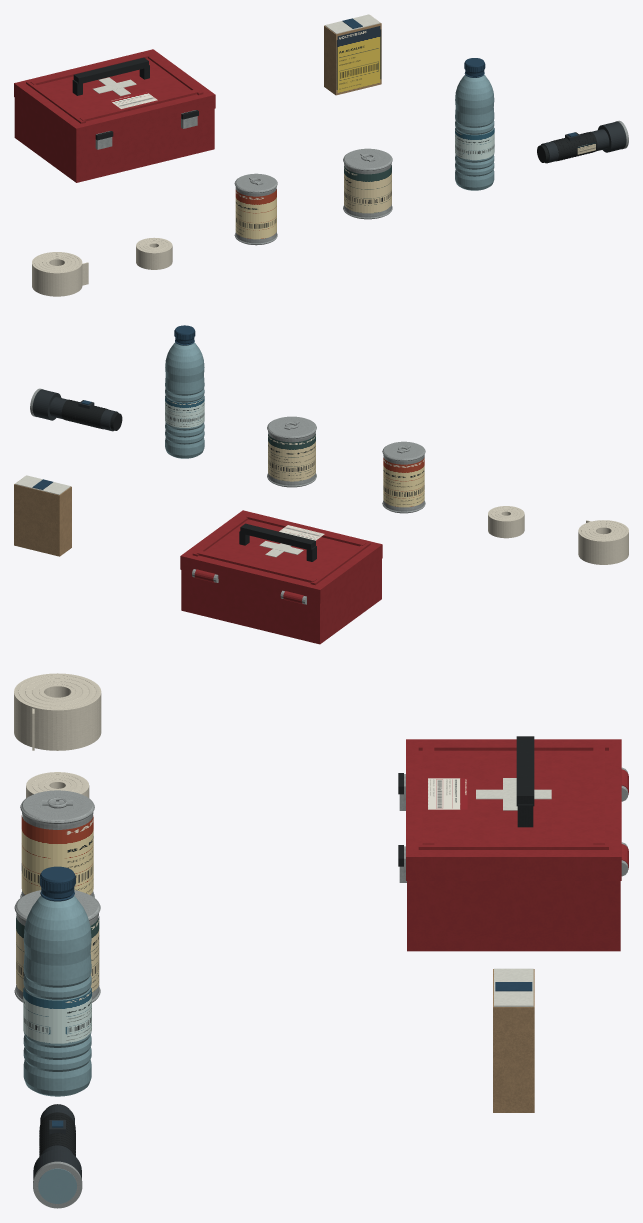
File: PROJECT_Z_FirstAid_Loot_Kit_Master.glb
The picture shows the model from 3 angles, top to bottom: view 1: azimuth 30°, elevation 25°; view 2: azimuth 150°, elevation 25°; view 3: azimuth 270°, elevation 25°; orthographic projection. The views are drawn at different scales.
Visible parts, largest first — view 1: MEDKIT_03_LID_RotateAboutRearHinge, MEDKIT_01_OpenTop_CaseBase_AndInnerWell, BOTTLE_01_PET_BlowMolded_RibbedBody, BATTERIES_02_Print_And_ProductLabel, BANDAGE90_OuterWrap_ClosedAnnulus, CAN_STEW_FictionalFood_PaperLabel, CAN_BEANS_FictionalFood_PaperLabel, CAN_STEW_DoubleSeamed_Tinplate_Body, BATTERIES_01_ClosedCardboard_Carton, BANDAGE65_WovenCottonCore, BOTTLE_02_ArtDirected_PaperLabel, CAN_BEANS_DoubleSeamed_Tinplate_Body (+5 smaller); view 2: MEDKIT_03_LID_RotateAboutRearHinge, MEDKIT_01_OpenTop_CaseBase_AndInnerWell, BATTERIES_01_ClosedCardboard_Carton, BOTTLE_01_PET_BlowMolded_RibbedBody, BANDAGE90_OuterWrap_ClosedAnnulus, CAN_STEW_FictionalFood_PaperLabel, CAN_BEANS_FictionalFood_PaperLabel, CAN_STEW_DoubleSeamed_Tinplate_Body, BANDAGE65_WovenCottonCore, BOTTLE_02_ArtDirected_PaperLabel, CAN_BEANS_DoubleSeamed_Tinplate_Body, TORCH_02_RubberKnurledGrip (+3 smaller); view 3: MEDKIT_03_LID_RotateAboutRearHinge, MEDKIT_01_OpenTop_CaseBase_AndInnerWell, BOTTLE_01_PET_BlowMolded_RibbedBody, BANDAGE90_OuterWrap_ClosedAnnulus, BATTERIES_01_ClosedCardboard_Carton, CAN_BEANS_FictionalFood_PaperLabel, BOTTLE_02_ArtDirected_PaperLabel, CAN_BEANS_DoubleSeamed_Tinplate_Body, BATTERIES_03_TopFold_AndSeal, TORCH_03_HeadBezel_Shoulder, CAN_STEW_FictionalFood_PaperLabel, BANDAGE65_WovenCottonCore (+4 smaller).
Part boxes in pixels (<box>): MEDKIT_03_LID_RotateAboutRearHinge: <box>14,49,215,142</box>; MEDKIT_01_OpenTop_CaseBase_AndInnerWell: <box>14,98,214,182</box>; BOTTLE_01_PET_BlowMolded_RibbedBody: <box>455,74,494,190</box>; BATTERIES_02_Print_And_ProductLabel: <box>337,26,380,92</box>; BANDAGE90_OuterWrap_ClosedAnnulus: <box>32,252,82,296</box>; CAN_STEW_FictionalFood_PaperLabel: <box>344,165,391,213</box>; CAN_BEANS_FictionalFood_PaperLabel: <box>235,189,276,239</box>; CAN_STEW_DoubleSeamed_Tinplate_Body: <box>343,148,391,219</box>; BATTERIES_01_ClosedCardboard_Carton: <box>324,23,381,95</box>; BANDAGE65_WovenCottonCore: <box>136,237,172,269</box>; BOTTLE_02_ArtDirected_PaperLabel: <box>455,128,494,160</box>; CAN_BEANS_DoubleSeamed_Tinplate_Body: <box>235,173,276,245</box>; MEDKIT_03_LID_RotateAboutRearHinge: <box>180,510,382,604</box>; MEDKIT_01_OpenTop_CaseBase_AndInnerWell: <box>181,559,381,644</box>; BATTERIES_01_ClosedCardboard_Carton: <box>14,484,71,556</box>; BOTTLE_01_PET_BlowMolded_RibbedBody: <box>165,342,204,458</box>; BANDAGE90_OuterWrap_ClosedAnnulus: <box>578,520,628,564</box>; CAN_STEW_FictionalFood_PaperLabel: <box>268,434,315,481</box>; CAN_BEANS_FictionalFood_PaperLabel: <box>383,457,424,507</box>; CAN_STEW_DoubleSeamed_Tinplate_Body: <box>267,416,316,487</box>; BANDAGE65_WovenCottonCore: <box>488,506,524,538</box>; BOTTLE_02_ArtDirected_PaperLabel: <box>165,396,204,427</box>; CAN_BEANS_DoubleSeamed_Tinplate_Body: <box>383,441,424,513</box>; TORCH_02_RubberKnurledGrip: <box>61,399,107,429</box>; MEDKIT_03_LID_RotateAboutRearHinge: <box>406,736,628,880</box>; MEDKIT_01_OpenTop_CaseBase_AndInnerWell: <box>407,881,620,951</box>; BOTTLE_01_PET_BlowMolded_RibbedBody: <box>23,896,91,1096</box>; BANDAGE90_OuterWrap_ClosedAnnulus: <box>14,673,101,750</box>; BATTERIES_01_ClosedCardboard_Carton: <box>493,969,534,1112</box>; CAN_BEANS_FictionalFood_PaperLabel: <box>21,815,93,894</box>; BOTTLE_02_ArtDirected_PaperLabel: <box>23,988,91,1043</box>; CAN_BEANS_DoubleSeamed_Tinplate_Body: <box>21,790,93,896</box>; BATTERIES_03_TopFold_AndSeal: <box>494,968,533,1006</box>; TORCH_03_HeadBezel_Shoulder: <box>33,1149,82,1208</box>; CAN_STEW_FictionalFood_PaperLabel: <box>16,916,99,992</box>; BANDAGE65_WovenCottonCore: <box>26,772,89,797</box>.
Size of the model in its own units: 1.21 by 0.241 by 0.6337.
Materials: 11 (11 with a texture image).
